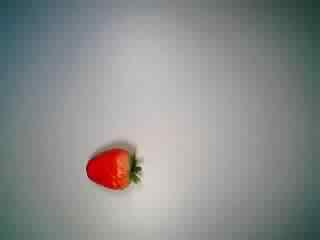strawberry: (85, 128, 151, 194)
